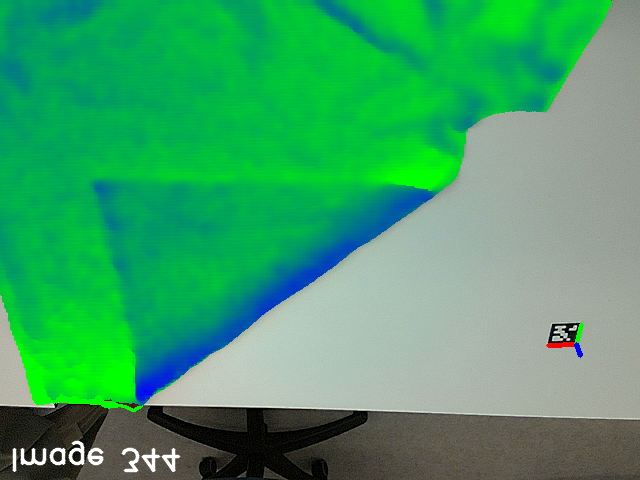V: (85, 163, 149, 231)
